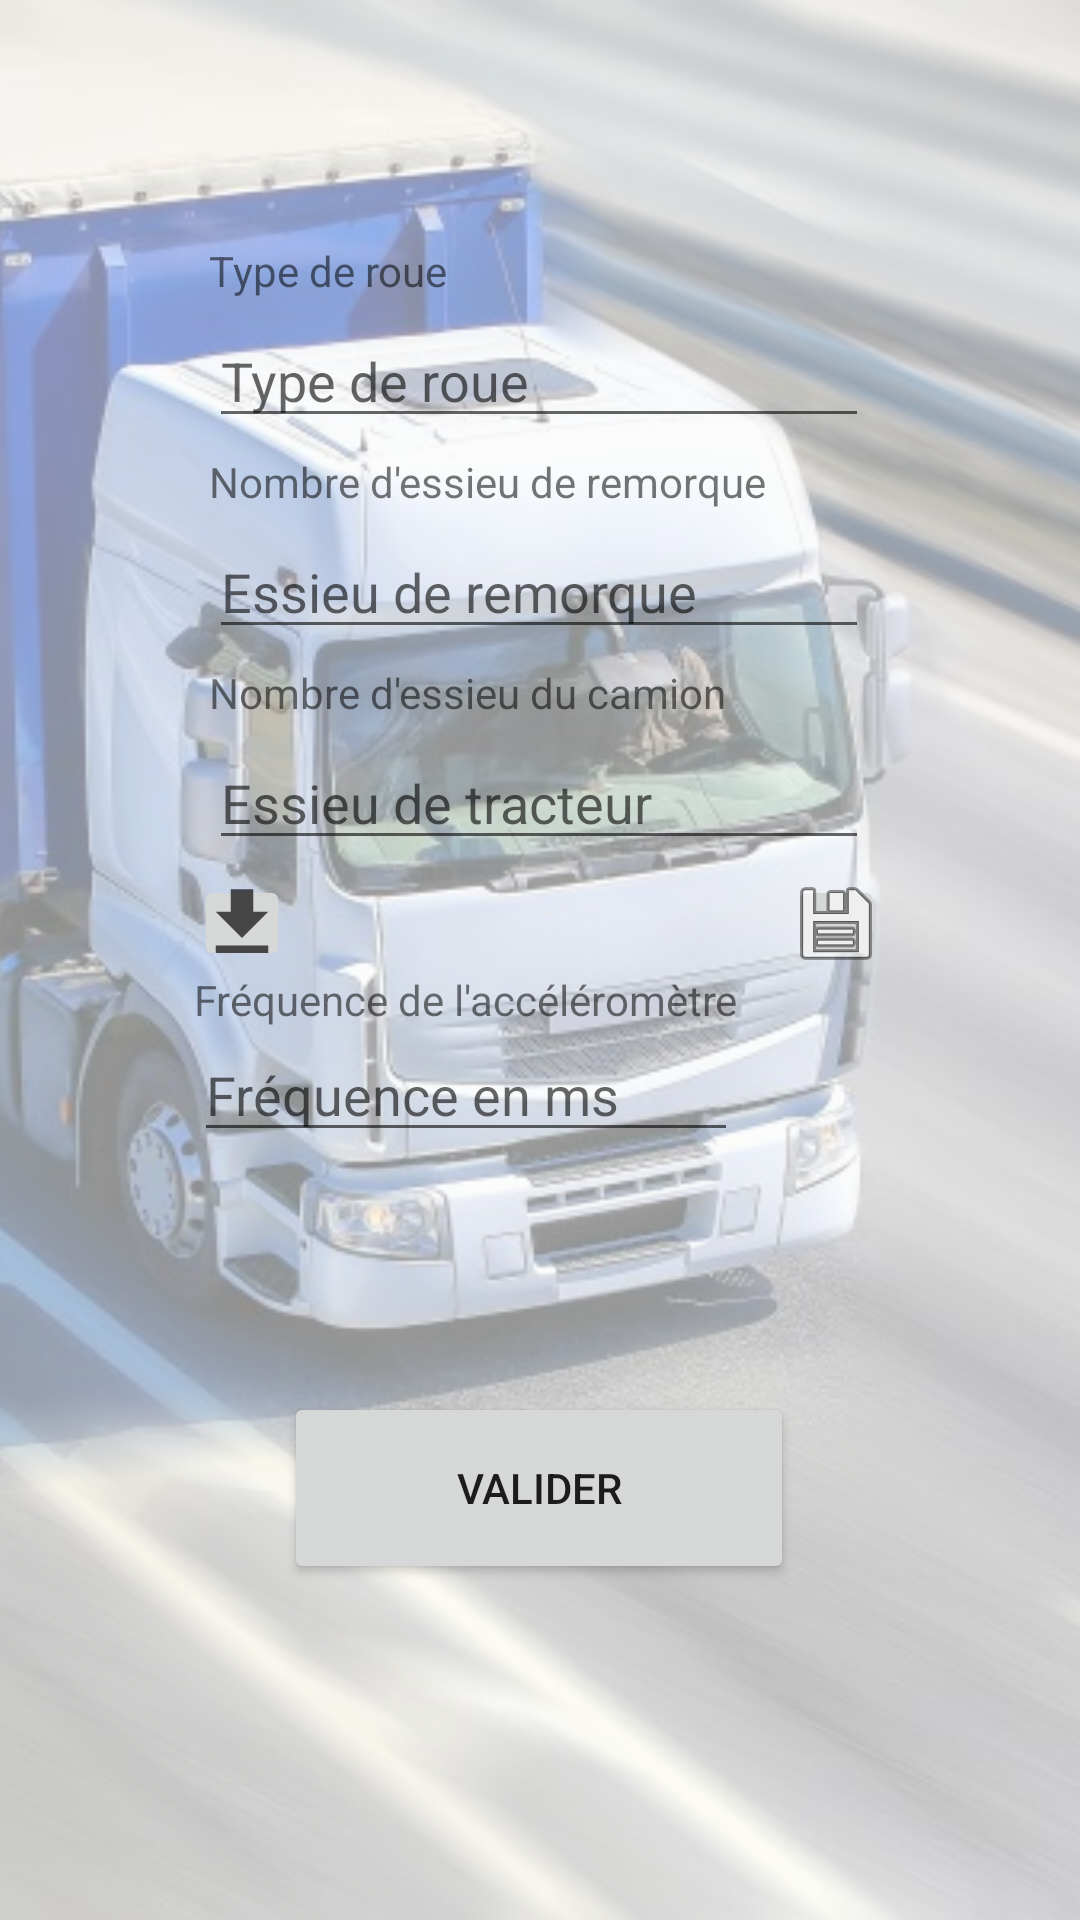

Where icons sit on this 1080 × 1920 app screen, as (x1, y1, x2, y2):
download file: (194, 889, 269, 971)
save: (788, 875, 884, 971)
